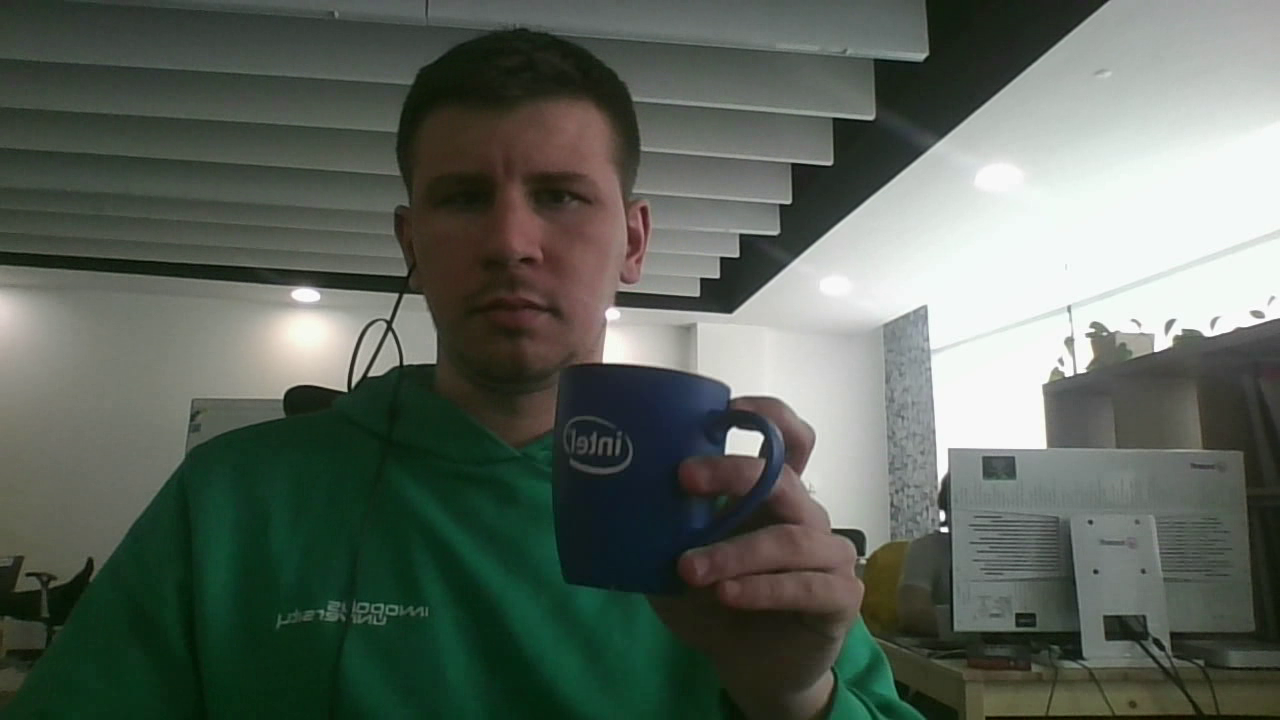cup: (552, 362, 786, 591)
